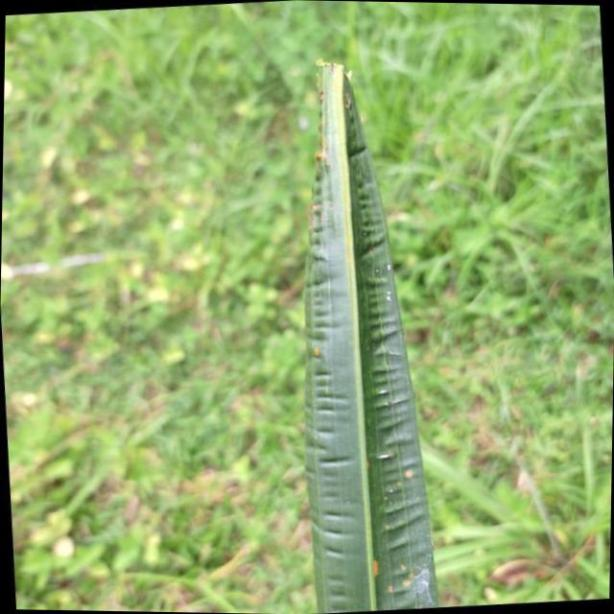Boron: (303, 54, 442, 614)
